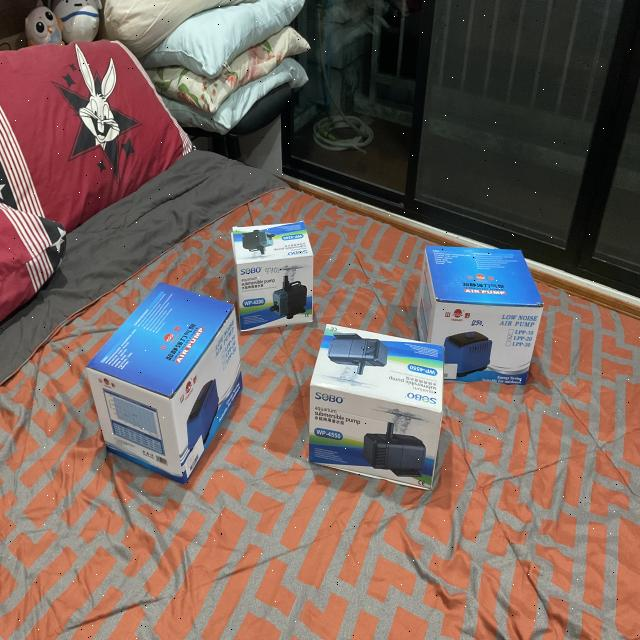SOBO_WP_4200: (304, 320, 460, 510), (229, 218, 321, 330)
YAMANO_LPP_20: (84, 266, 257, 492), (418, 235, 548, 393)
